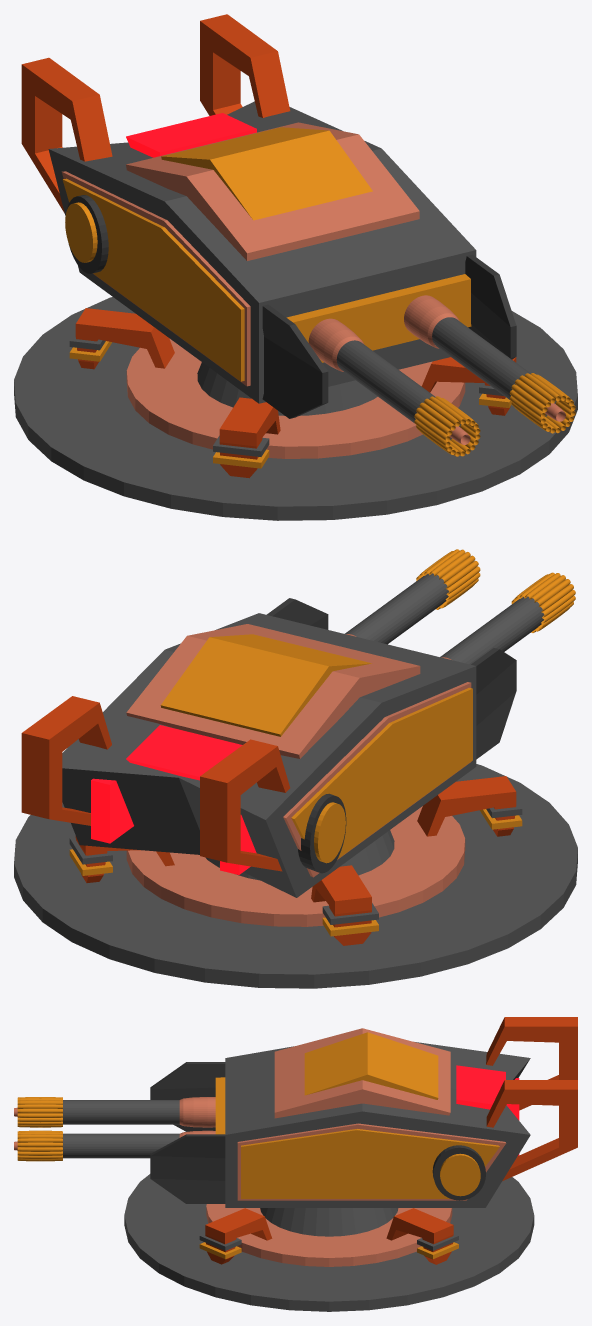
File: Turm 25.fbx
3 renders of one model, top to bottom at view 1: azimuth 30°, elevation 25°; view 2: azimuth 150°, elevation 25°; view 3: azimuth 270°, elevation 25°, orthographic. The views are drawn at different scales.
Parts seen in each view (by area): view 1: Cube.018, Cylinder.008; view 2: Cube.018, Cylinder.008; view 3: Cube.018, Cylinder.008.
Part boxes in pixels (x1,y1,x2,y2): Cube.018: (21,14,575,478); Cylinder.008: (14,297,577,520); Cube.018: (21,549,575,945); Cylinder.008: (14,764,577,988); Cube.018: (14,1017,577,1266); Cylinder.008: (124,1174,534,1311).
Size of the model in its own units: 400 by 185 by 550.
